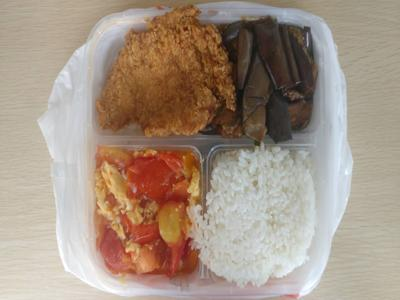jdxhs: (91, 146, 204, 281)
rice: (206, 146, 329, 287)
sqz: (219, 22, 320, 140)
